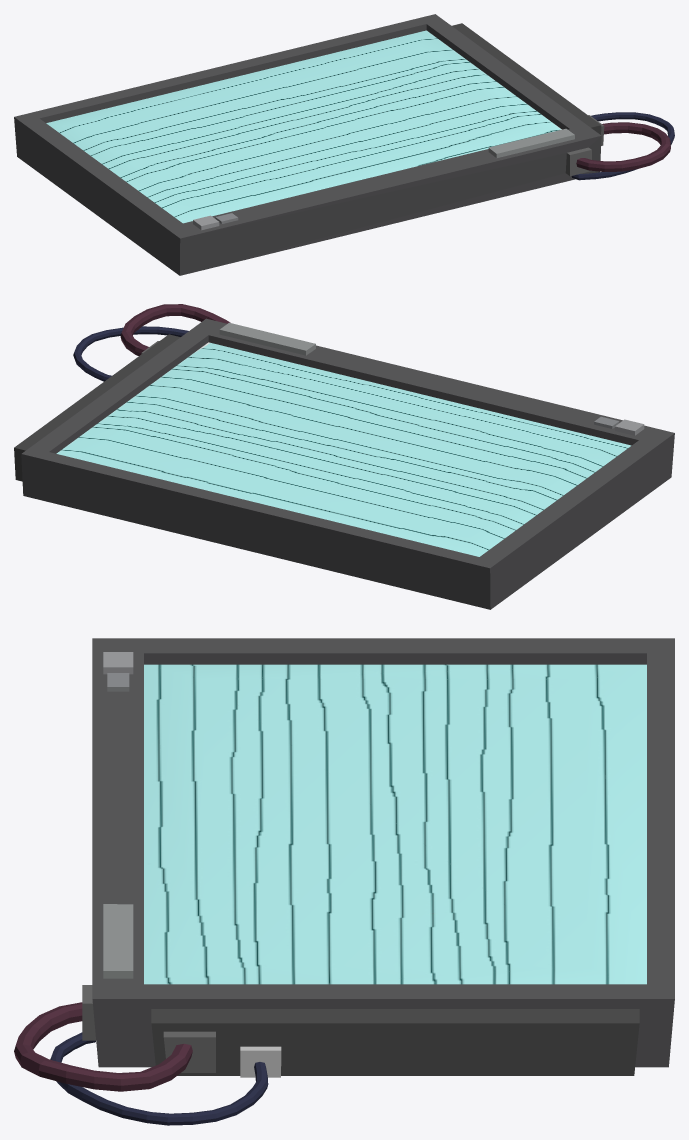
File: terminal_fbx.fbx
3 views of the same model, one above another, from view 1: azimuth 30°, elevation 25°; view 2: azimuth 150°, elevation 25°; view 3: azimuth 270°, elevation 25° (orthographic). The views are drawn at different scales.
Visible parts, largest first — view 1: pCube3; view 2: pCube3; view 3: pCube3.
Boxes of the visible parts, x1,y1,x2,y2 form: pCube3: (14, 14, 674, 275); pCube3: (14, 304, 674, 609); pCube3: (14, 638, 674, 1125).
Bounding box in the file's own units: 243 × 19.69 × 155.
10 materials, 1 textured.
